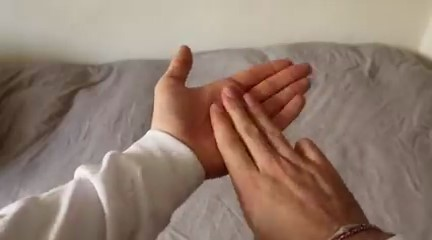M: (139, 37, 381, 240)
